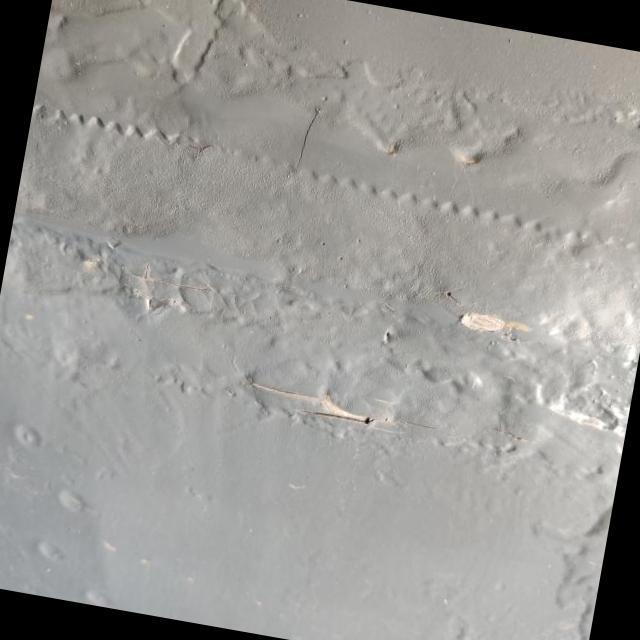Rupture: (226, 364, 446, 451), (108, 250, 223, 332), (284, 97, 330, 182)
